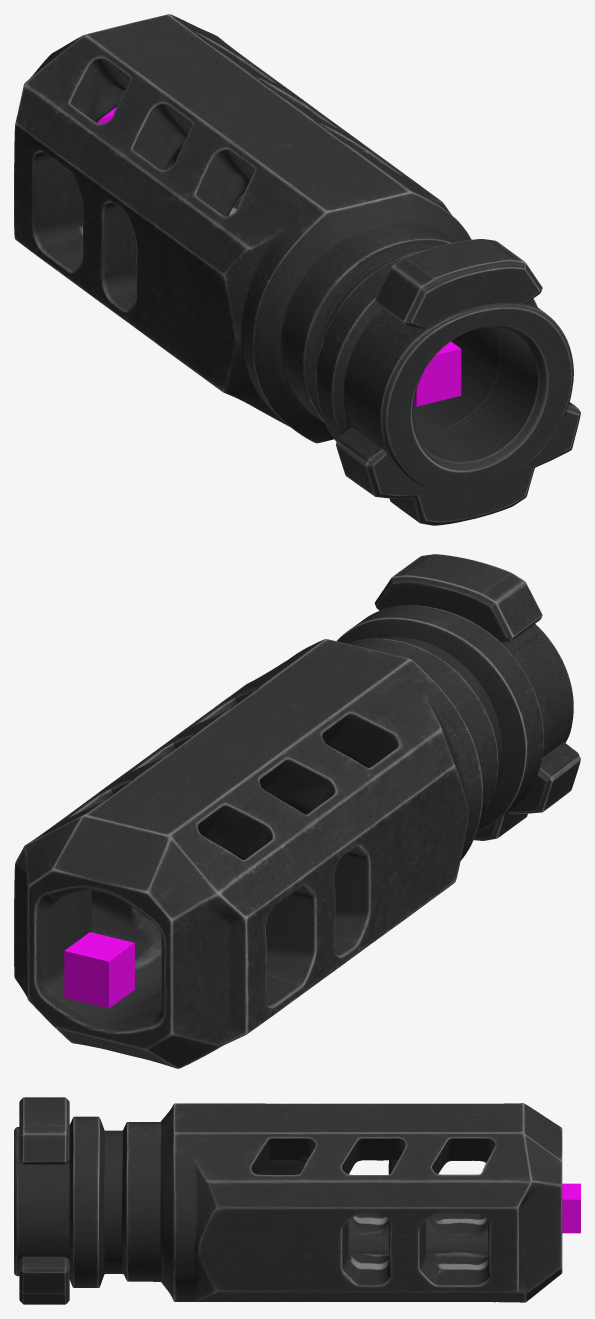
File: Compensator_SMG.glb
3 renders of one model, top to bottom at view 1: azimuth 30°, elevation 25°; view 2: azimuth 150°, elevation 25°; view 3: azimuth 270°, elevation 25°, orthographic. The views are drawn at different scales.
Parts seen in each view (by area): view 1: Compensator_07, Compensator_12, Compensator_06, Compensator_11, Compensator_08, Compensator_04, Compensator_02, Compensator_10, Compensator_01, Compensator_03, Compensator_05, Point_Mount (+1 smaller); view 2: Compensator_01, Compensator_07, Compensator_06, Compensator_03, Compensator_11, Compensator_05, Compensator_04, Compensator_10, Compensator_09, Compensator_02, Compensator_08, Point_Muzzle; view 3: Compensator_07, Compensator_06, Compensator_01, Compensator_11, Compensator_04, Compensator_08, Compensator_02, Compensator_03, Compensator_05, Compensator_10, Compensator_09, Point_Muzzle (+1 smaller).
Part boxes in pixels (left/top/right/bottom): Compensator_07: left=179, top=149, right=471, bottom=443; Compensator_12: left=371, top=266, right=579, bottom=523; Compensator_06: left=134, top=104, right=407, bottom=374; Compensator_11: left=336, top=239, right=580, bottom=525; Compensator_08: left=255, top=202, right=480, bottom=435; Compensator_04: left=79, top=63, right=329, bottom=313; Compensator_02: left=23, top=28, right=270, bottom=275; Compensator_10: left=316, top=251, right=537, bottom=441; Compensator_01: left=14, top=14, right=242, bottom=250; Compensator_03: left=54, top=47, right=297, bottom=290; Compensator_05: left=110, top=90, right=349, bottom=331; Point_Mount: left=414, top=341, right=461, bottom=406; Compensator_01: left=14, top=800, right=267, bottom=1068; Compensator_07: left=214, top=639, right=483, bottom=901; Compensator_06: left=160, top=677, right=439, bottom=942; Compensator_03: left=78, top=758, right=317, bottom=1002; Compensator_11: left=374, top=554, right=580, bottom=840; Compensator_05: left=134, top=717, right=375, bottom=961; Compensator_04: left=104, top=739, right=353, bottom=985; Compensator_10: left=351, top=583, right=544, bottom=837; Compensator_09: left=336, top=617, right=526, bottom=831; Compensator_02: left=49, top=778, right=294, bottom=1023; Compensator_08: left=348, top=638, right=498, bottom=816; Point_Muzzle: left=64, top=932, right=134, bottom=1008; Compensator_07: left=164, top=1103, right=277, bottom=1301; Compensator_06: left=241, top=1103, right=353, bottom=1301; Compensator_01: left=486, top=1103, right=562, bottom=1302; Compensator_11: left=18, top=1097, right=69, bottom=1304; Compensator_04: left=360, top=1103, right=427, bottom=1301; Compensator_08: left=122, top=1111, right=173, bottom=1293; Compensator_02: left=441, top=1103, right=504, bottom=1302; Compensator_03: left=407, top=1103, right=472, bottom=1301; Compensator_05: left=325, top=1103, right=384, bottom=1301; Compensator_10: left=69, top=1102, right=98, bottom=1299; Compensator_09: left=97, top=1116, right=122, bottom=1287; Point_Muzzle: left=562, top=1183, right=580, bottom=1233.
Size of the model in its own units: 0.1568 by 0.1622 by 0.456.
Materials: 2 (1 with a texture image).
